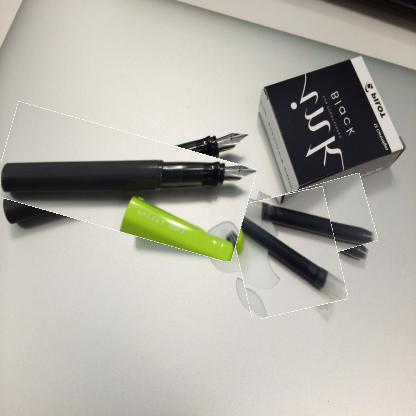Pen: (1, 117, 253, 247), (232, 191, 342, 316), (252, 181, 374, 265)
